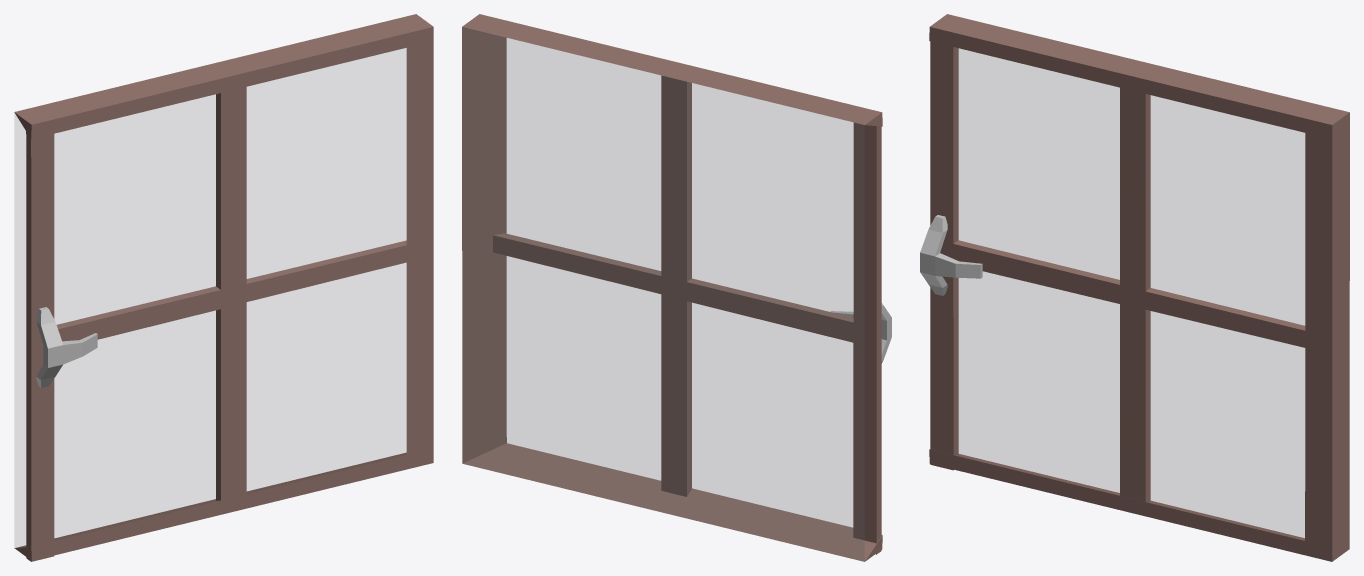
Rendered from Atelier_modular_window_right.fbx.
3 views of the same model, side by side, from view 1: azimuth 30°, elevation 25°; view 2: azimuth 150°, elevation 25°; view 3: azimuth 330°, elevation 25° (orthographic).
Visible parts, largest first — view 1: Atelier_modular_window_right; view 2: Atelier_modular_window_right; view 3: Atelier_modular_window_right.
Part boxes in pixels (x1,y1,x2,y2): Atelier_modular_window_right: (14, 14, 433, 561); Atelier_modular_window_right: (462, 14, 891, 561); Atelier_modular_window_right: (920, 14, 1349, 561).
Bounding box in the file's own units: 118 × 122 × 15.51.
3 materials, 1 textured.
